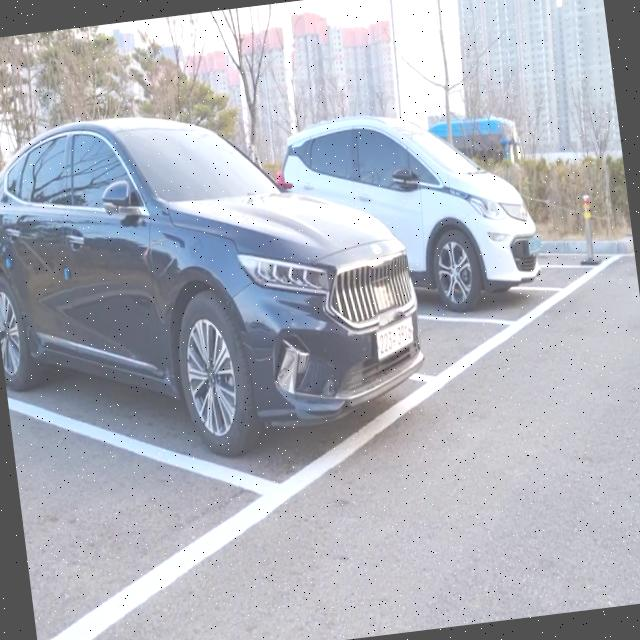empty: (388, 208, 530, 394)
occupied: (0, 85, 446, 535), (293, 101, 566, 353)
